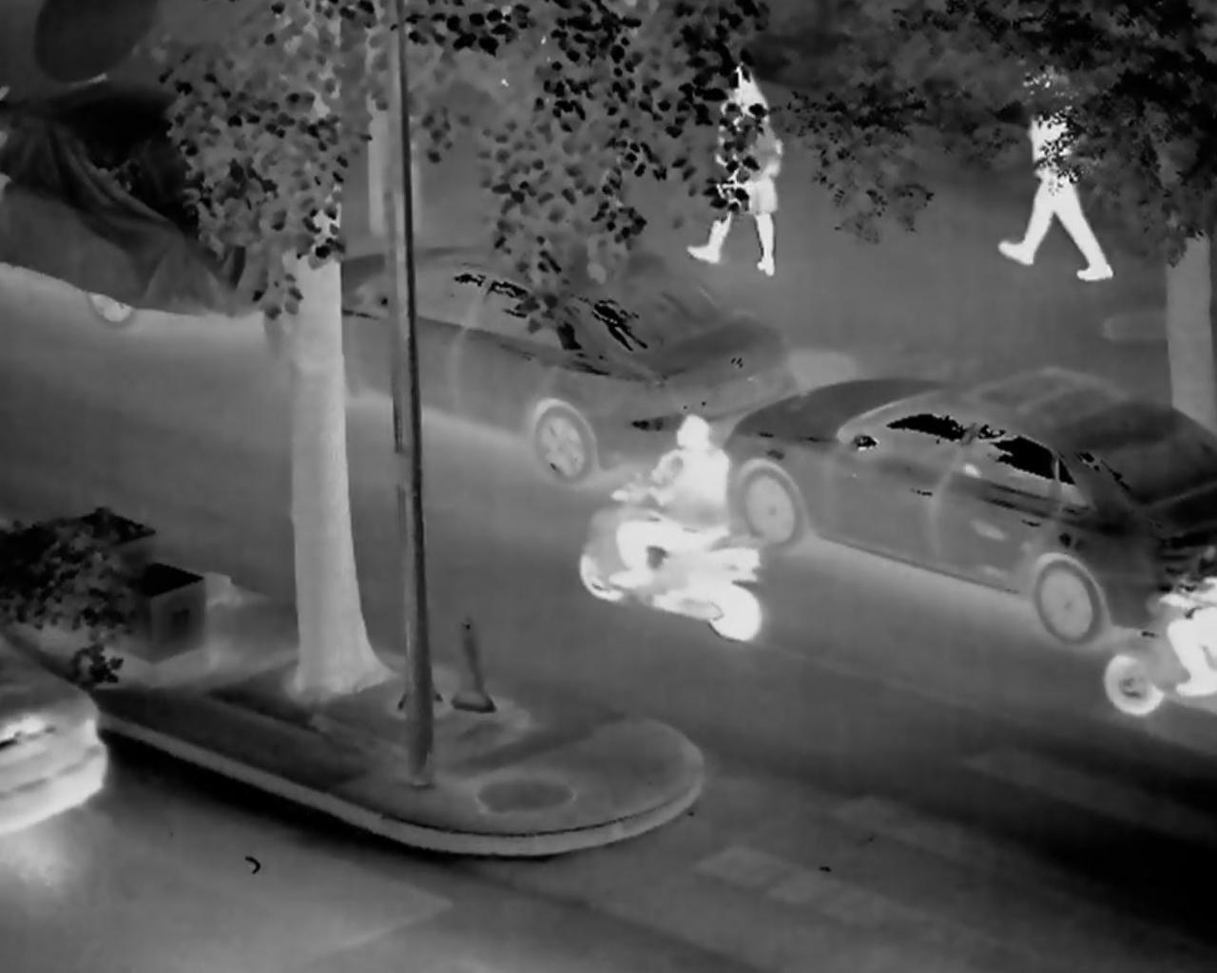person: (995, 59, 1118, 280), (694, 62, 806, 283), (604, 411, 735, 598), (1159, 568, 1217, 696)
